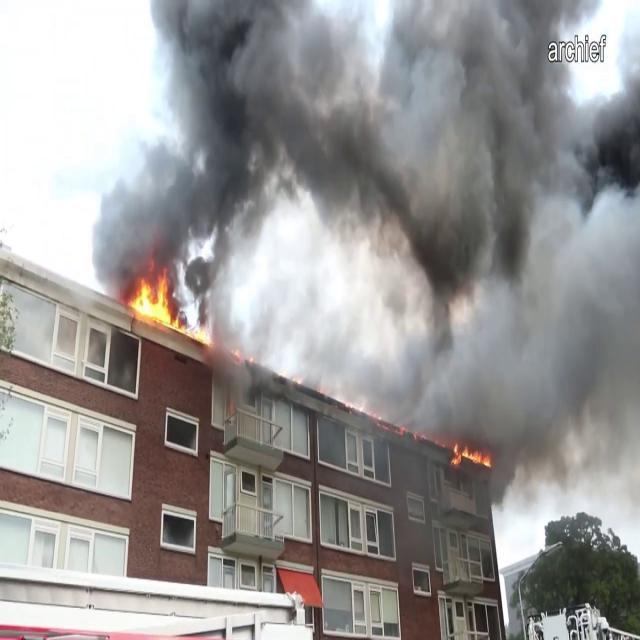Fire: (120, 271, 196, 335), (450, 436, 494, 472)
Smoke: (288, 0, 640, 459), (67, 0, 296, 373)
